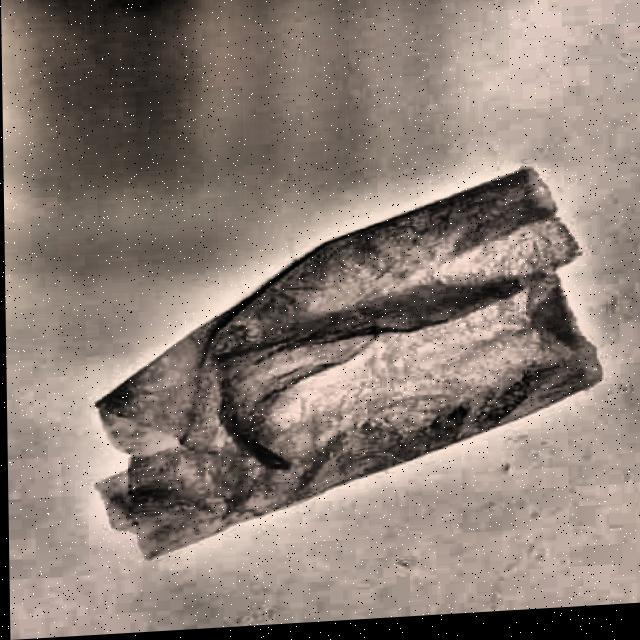paper: (71, 160, 617, 566)
